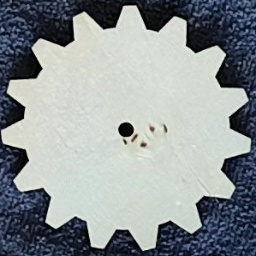Points: (161, 121, 170, 134), (130, 132, 139, 143), (148, 124, 156, 134), (121, 138, 128, 146), (139, 142, 147, 148)
